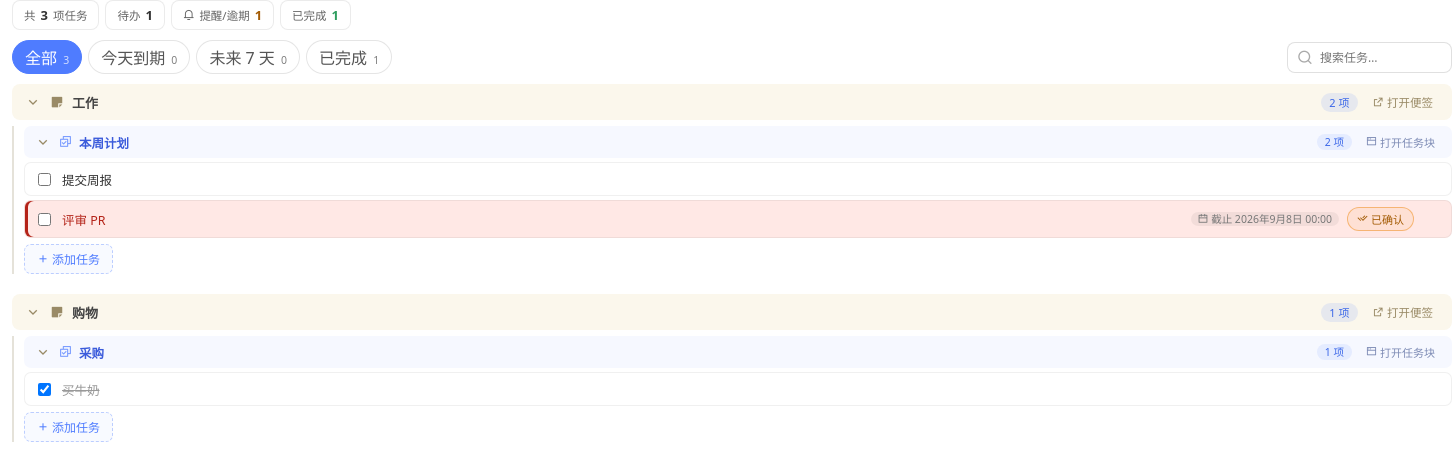
Test: TodoOverviewView › 搜索过滤任务标题
Type "牛奶" into the field with placeholder "搜索任务…" at point(1380, 57), box [1318,48,1442,66]
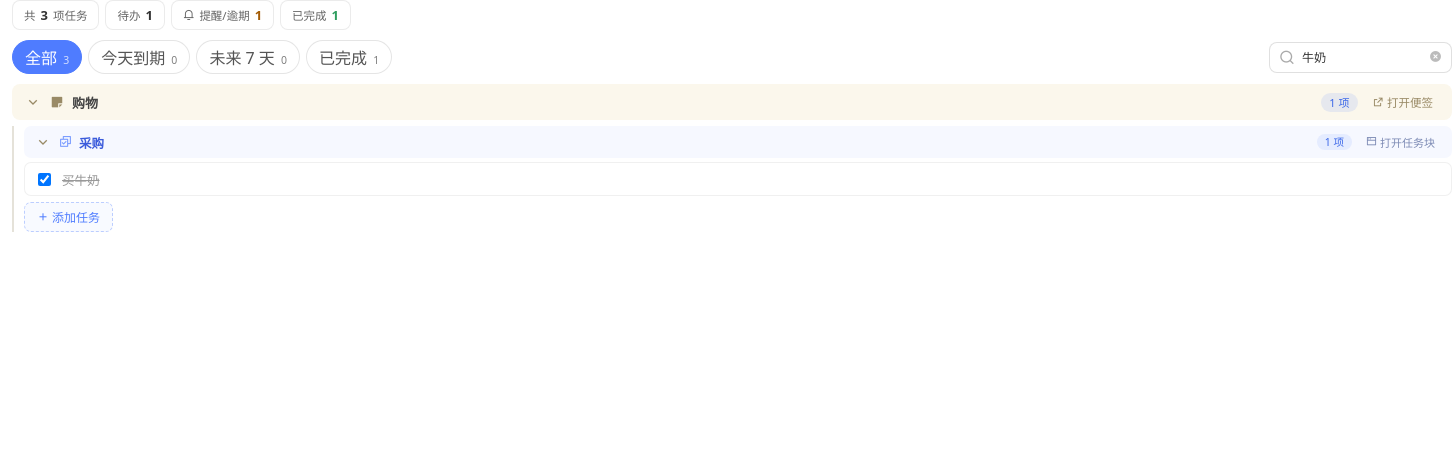
Expected: the text "买牛奶" is shown, [62,172,100,188]
Expected: the number of elements with class "ov-row" is 1, [24,162,1451,196]
